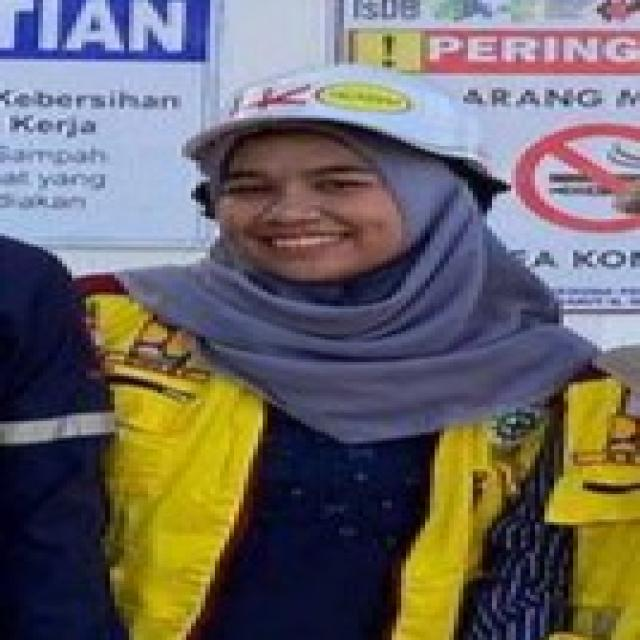safetyhelmet: (174, 62, 512, 220)
